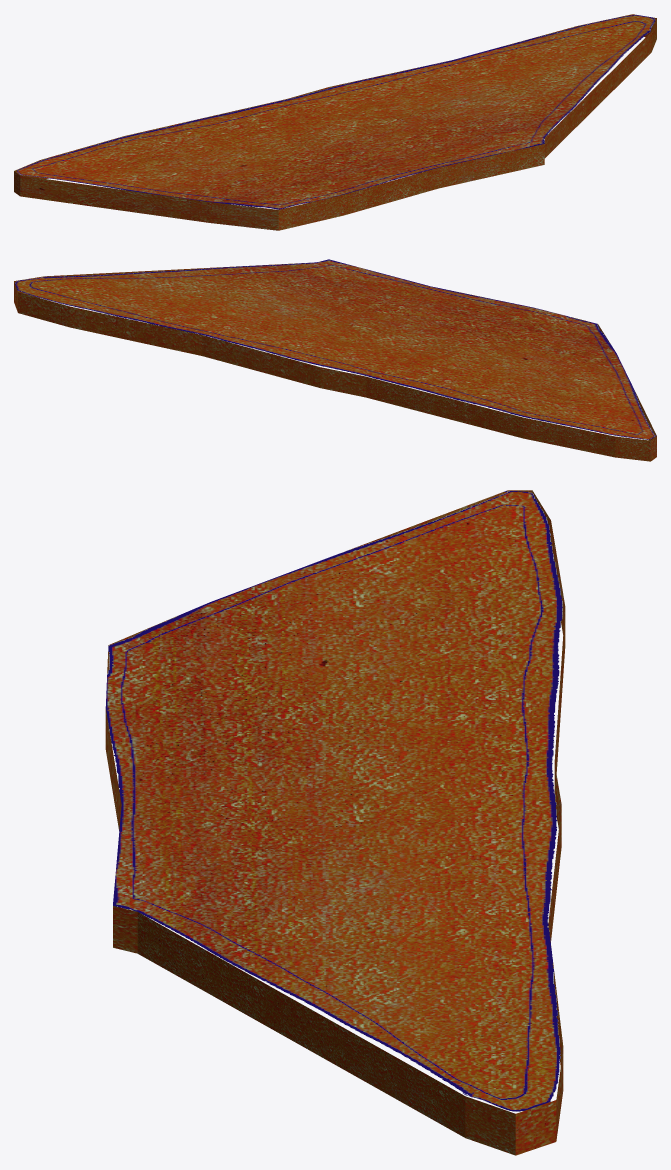
File: brick_03.fbx
3 views of the same model, one above another, from view 1: azimuth 30°, elevation 25°; view 2: azimuth 150°, elevation 25°; view 3: azimuth 270°, elevation 25° (orthographic). The views are drawn at different scales.
Visible parts, largest first — view 1: ｂｒｉｃｋ＿０３; view 2: ｂｒｉｃｋ＿０３; view 3: ｂｒｉｃｋ＿０３.
Part boxes in pixels (x1,y1,x2,y2): ｂｒｉｃｋ＿０３: (14, 14, 656, 230); ｂｒｉｃｋ＿０３: (14, 259, 656, 461); ｂｒｉｃｋ＿０３: (105, 490, 565, 1155).
Size of the model in its own units: 496 by 15.54 by 154.
1 material, 1 textured.
